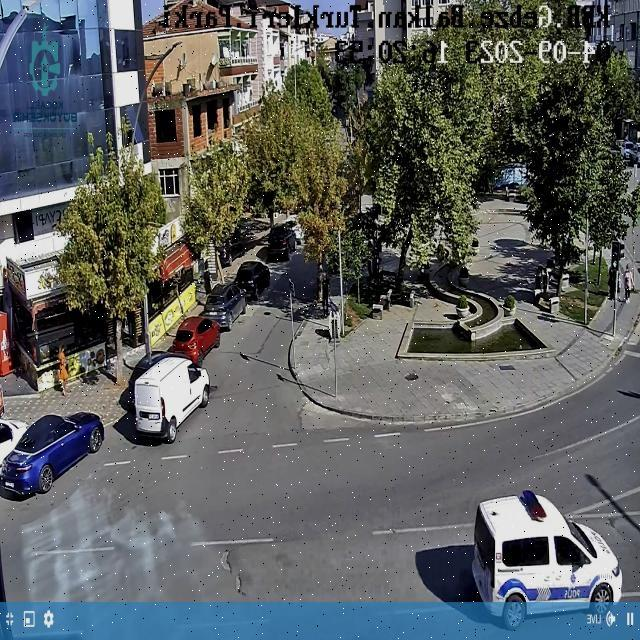Car: (0, 411, 106, 500), (169, 316, 220, 364), (202, 283, 248, 330), (235, 261, 271, 300), (268, 228, 296, 262)
Van: (471, 487, 623, 629), (134, 356, 212, 445)
